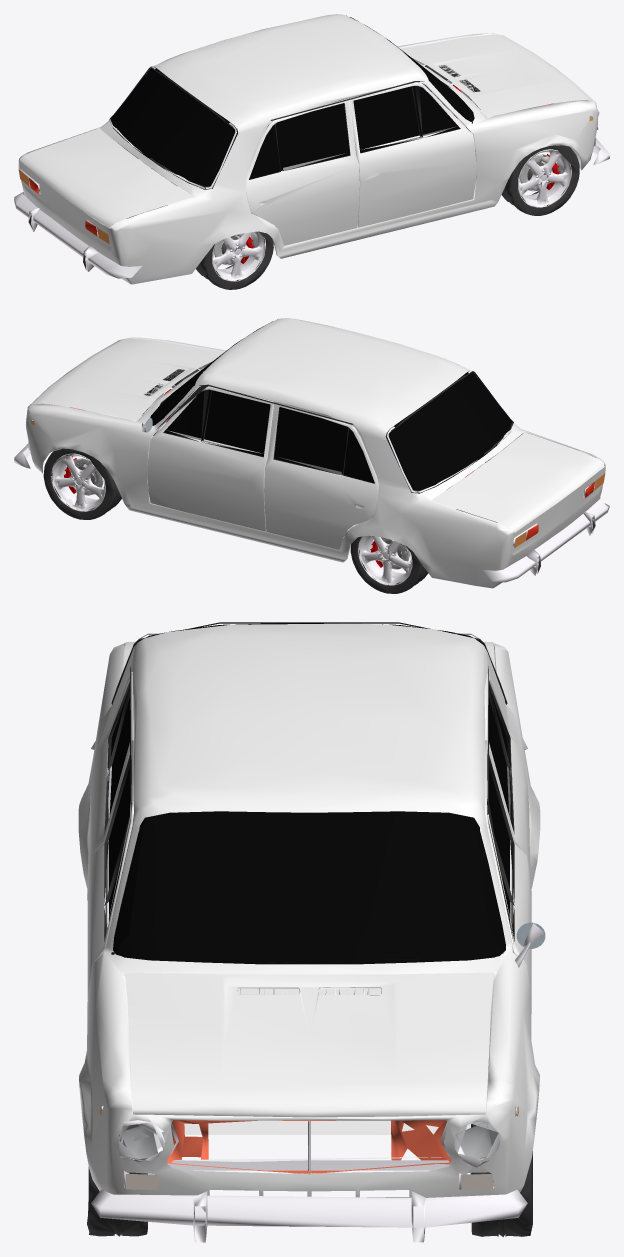
Rendered from vaz2101.glb.
3 renders of one model, top to bottom at view 1: azimuth 30°, elevation 25°; view 2: azimuth 150°, elevation 25°; view 3: azimuth 270°, elevation 25°, orthographic. The views are drawn at different scales.
Visible parts, largest first — view 1: paint, glass_side, glass_rear, material_2, wheel3, wheel2, wheel3_gum.001, material_12, wheel2_gum.001, glass_front; view 2: paint, glass_side, glass_rear, material_2, wheel1, wheel1_gum.001, wheel0, material_12, wheel0_gum.001, glass_front; view 3: paint, glass_front, material_2, glass_side, material_12, material_8, material_5, material_6, wheel1_gum.001, wheel3_gum.001, material_9.
Boxes of the visible parts, x1=… form: paint: x1=18, y1=14, x2=597, y2=284; glass_side: x1=206, y1=76, x2=472, y2=186; glass_rear: x1=111, y1=67, x2=235, y2=186; material_2: x1=14, y1=66, x2=609, y2=278; wheel3: x1=518, y1=149, x2=571, y2=207; wheel2: x1=212, y1=231, x2=265, y2=281; wheel3_gum.001: x1=501, y1=145, x2=579, y2=215; material_12: x1=110, y1=15, x2=460, y2=189; wheel2_gum.001: x1=196, y1=213, x2=273, y2=289; glass_front: x1=349, y1=17, x2=474, y2=122; paint: x1=26, y1=318, x2=605, y2=588; glass_side: x1=152, y1=380, x2=416, y2=490; glass_rear: x1=388, y1=371, x2=512, y2=490; material_2: x1=14, y1=369, x2=609, y2=582; wheel1: x1=51, y1=453, x2=105, y2=511; wheel1_gum.001: x1=43, y1=448, x2=121, y2=519; wheel0: x1=358, y1=536, x2=412, y2=585; material_12: x1=156, y1=319, x2=513, y2=493; wheel0_gum.001: x1=350, y1=536, x2=428, y2=593; glass_front: x1=150, y1=321, x2=272, y2=423; paint: x1=78, y1=623, x2=540, y2=1197; glass_front: x1=113, y1=811, x2=503, y2=964; material_2: x1=91, y1=633, x2=544, y2=1242; glass_side: x1=107, y1=693, x2=511, y2=954; material_12: x1=104, y1=622, x2=514, y2=962; material_8: x1=167, y1=1120, x2=451, y2=1174; material_5: x1=120, y1=1123, x2=498, y2=1162; material_6: x1=121, y1=1122, x2=493, y2=1159; wheel1_gum.001: x1=470, y1=1124, x2=532, y2=1236; wheel3_gum.001: x1=87, y1=1124, x2=147, y2=1236; material_9: x1=126, y1=1174, x2=492, y2=1189.
Size of the model in its own units: 4.05 by 1.27 by 1.61.
